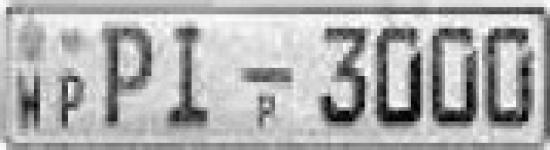-: (232, 58, 298, 92)
0: (370, 19, 428, 131), (426, 19, 482, 132), (482, 20, 538, 129)
3: (316, 19, 371, 130)
I: (162, 17, 219, 133)
P: (98, 20, 154, 132), (54, 63, 90, 130)
W: (13, 68, 49, 134)
